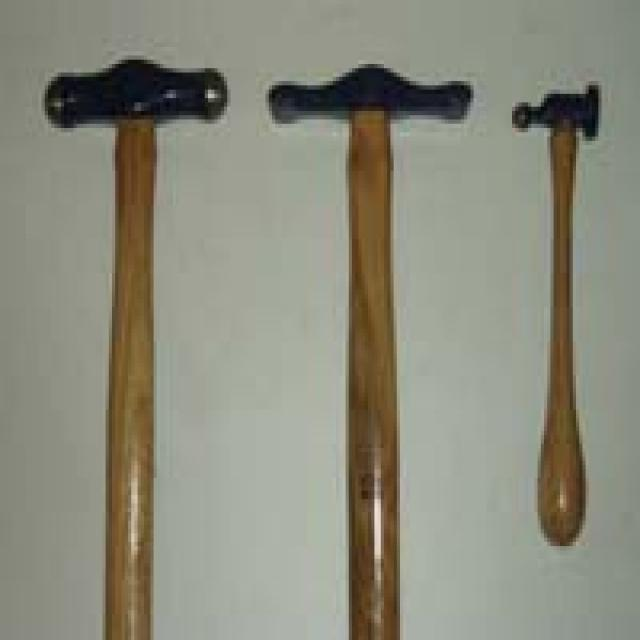hammer: (259, 34, 488, 640), (35, 38, 234, 640), (502, 62, 611, 560)
